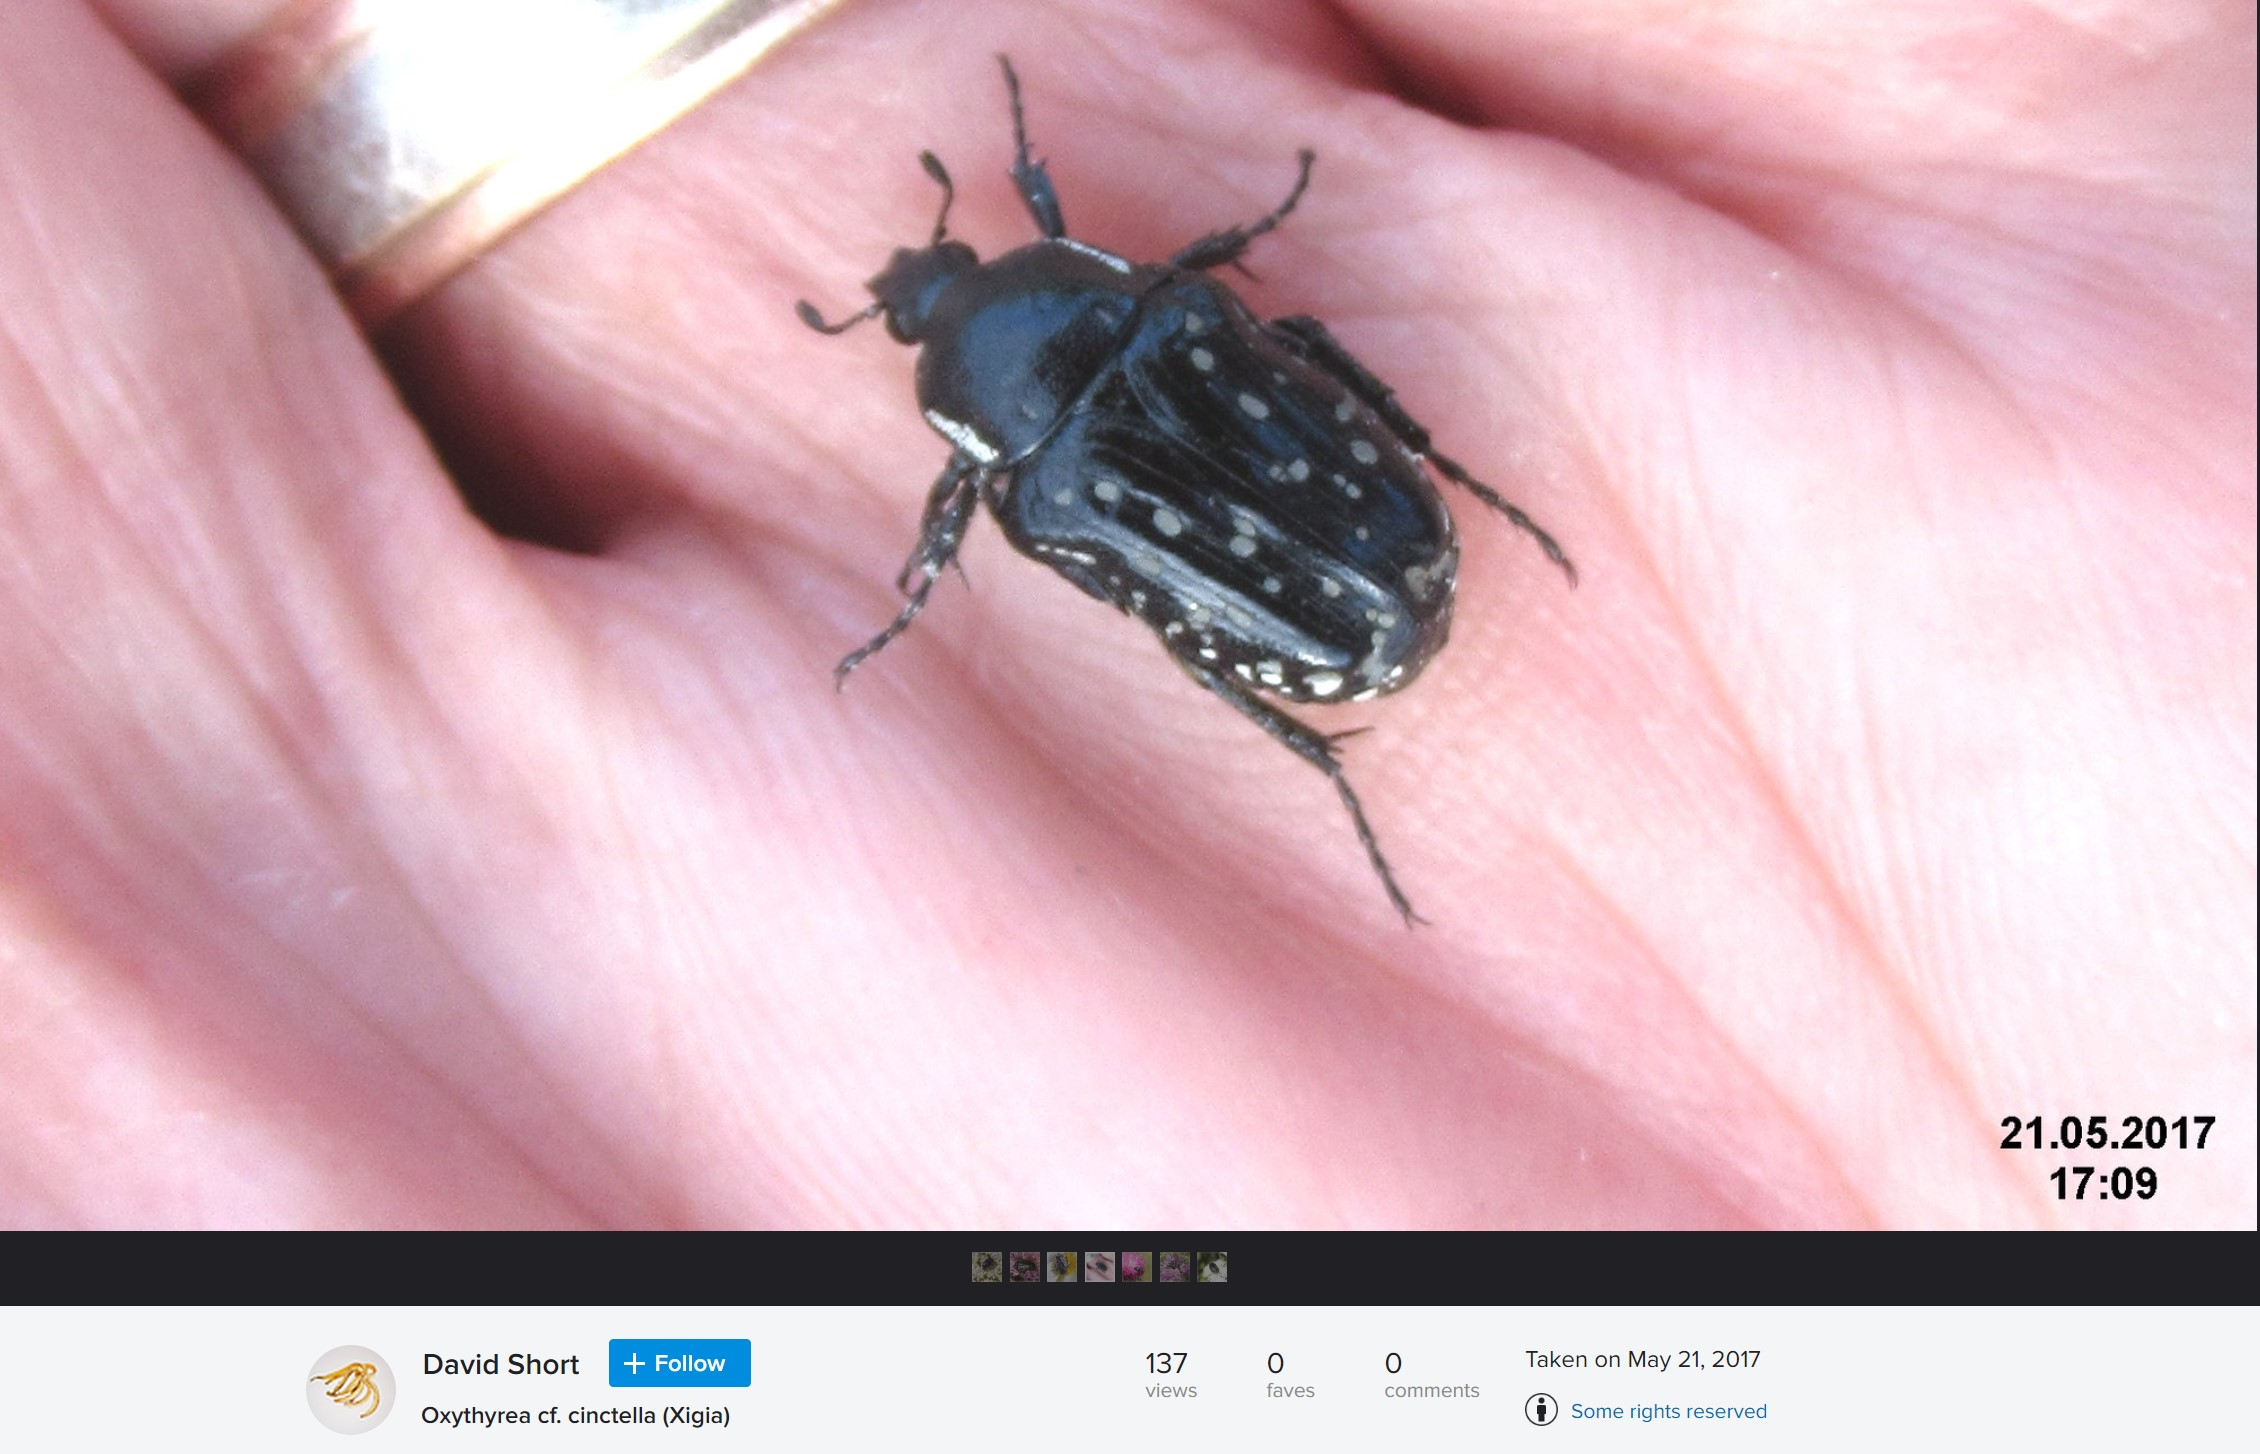Oxythyrea_cinctella: (801, 38, 1621, 939)
